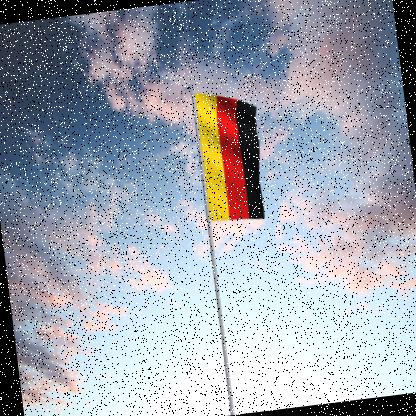de: (195, 86, 271, 227)
